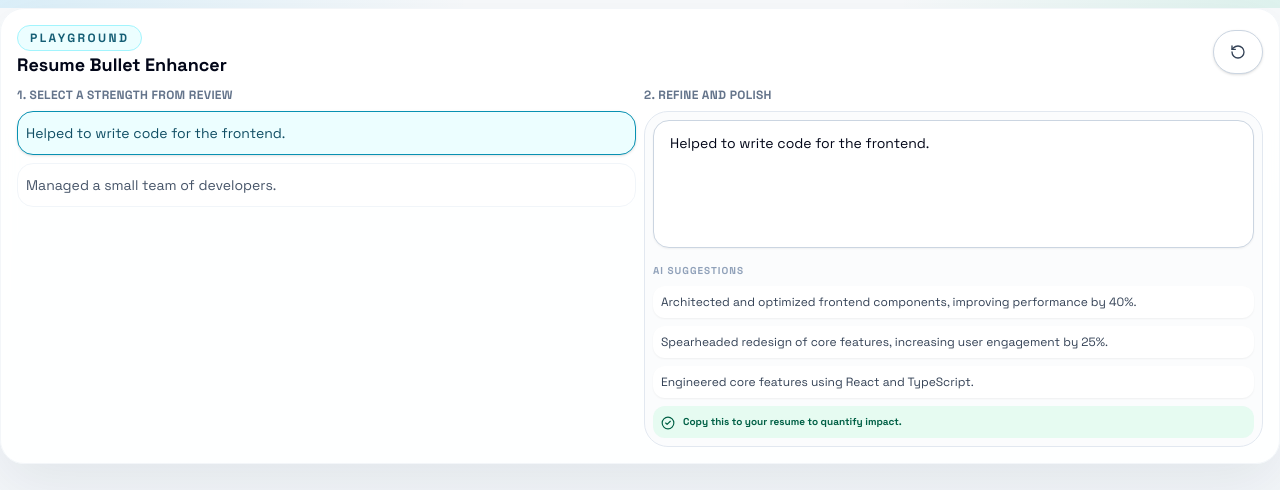
ResumeBulletPlayground › updates text when a different original bullet is selected
Click the button "Managed a small team of developers.".
click(151, 185)  # box [17,163,636,207]
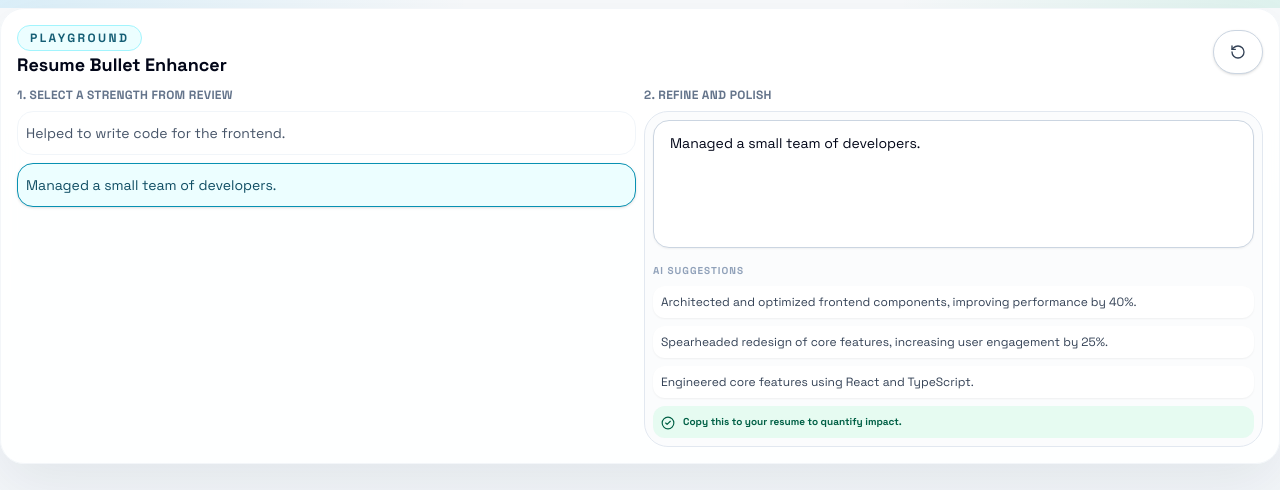
Now the text box holds "Managed a small team of developers.", box [653,120,1254,248]
